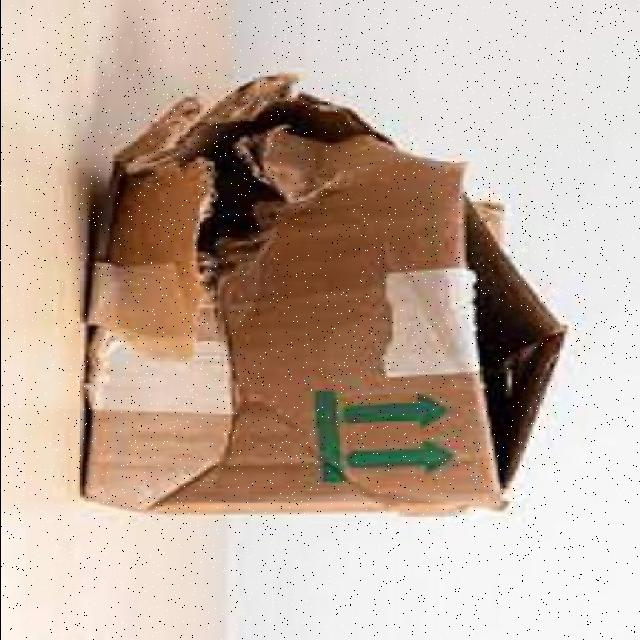defect: (77, 74, 569, 514)
